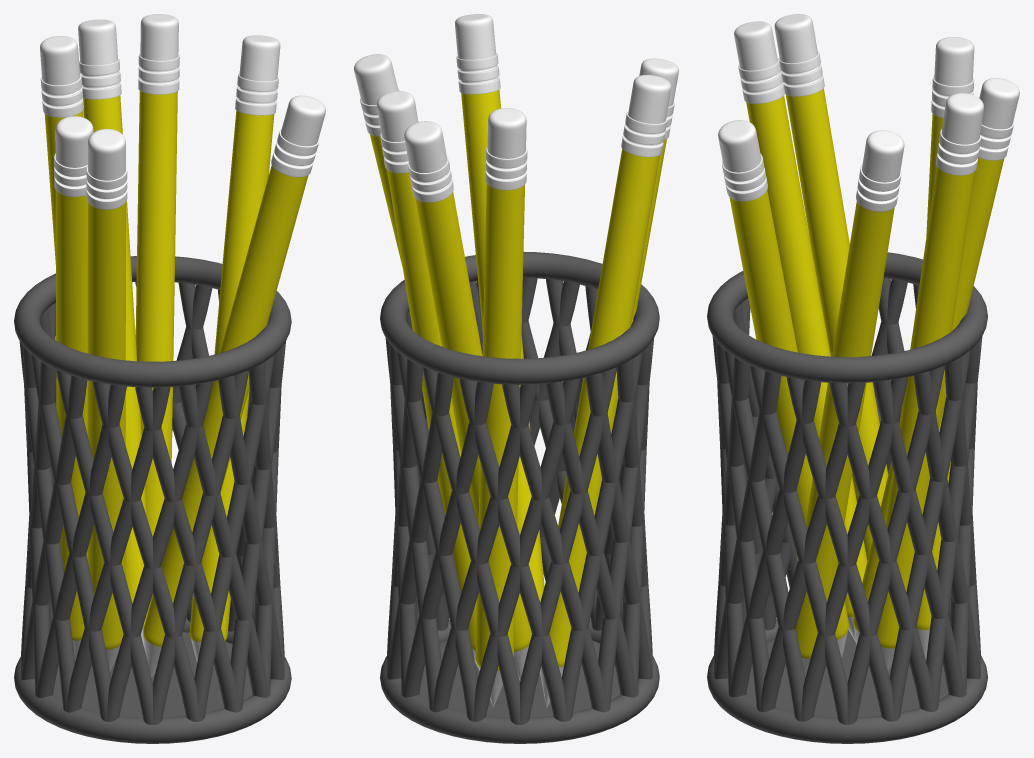
The model's file is pencil_cup_and_pencils.glb.
3 views of the same model, side by side, from view 1: azimuth 30°, elevation 25°; view 2: azimuth 150°, elevation 25°; view 3: azimuth 270°, elevation 25° (orthographic).
Parts seen in each view (by area): view 1: Pencil_Cup_Mesh, Pencil_Mesh_1.001, Pencil_Mesh_1.004, Pencil_Mesh_1.002, Pencil_Mesh_1.003, Pencil_Mesh_1.005, Pencil_Mesh_1.006, Pencil_Mesh_1; view 2: Pencil_Cup_Mesh, Pencil_Mesh_1.005, Pencil_Mesh_1, Pencil_Mesh_1.006, Pencil_Mesh_1.001, Pencil_Mesh_1.004, Pencil_Mesh_1.003, Pencil_Mesh_1.002; view 3: Pencil_Cup_Mesh, Pencil_Mesh_1.001, Pencil_Mesh_1.002, Pencil_Mesh_1.005, Pencil_Mesh_1.003, Pencil_Mesh_1.004, Pencil_Mesh_1.006, Pencil_Mesh_1.
Part boxes in pixels (left/top/right/bottom): Pencil_Cup_Mesh: left=14, top=256, right=291, bottom=743; Pencil_Mesh_1.001: left=135, top=14, right=179, bottom=596; Pencil_Mesh_1.004: left=143, top=95, right=325, bottom=677; Pencil_Mesh_1.002: left=86, top=129, right=127, bottom=671; Pencil_Mesh_1.003: left=189, top=35, right=280, bottom=667; Pencil_Mesh_1.005: left=54, top=116, right=93, bottom=661; Pencil_Mesh_1.006: left=78, top=19, right=151, bottom=648; Pencil_Mesh_1: left=40, top=36, right=83, bottom=264; Pencil_Cup_Mesh: left=380, top=252, right=659, bottom=743; Pencil_Mesh_1.005: left=539, top=75, right=671, bottom=707; Pencil_Mesh_1: left=475, top=108, right=527, bottom=707; Pencil_Mesh_1.006: left=404, top=121, right=531, bottom=680; Pencil_Mesh_1.001: left=377, top=91, right=478, bottom=667; Pencil_Mesh_1.004: left=455, top=14, right=544, bottom=601; Pencil_Mesh_1.003: left=354, top=54, right=402, bottom=268; Pencil_Mesh_1.002: left=631, top=58, right=678, bottom=324; Pencil_Cup_Mesh: left=707, top=252, right=987, bottom=743; Pencil_Mesh_1.001: left=877, top=93, right=983, bottom=671; Pencil_Mesh_1.002: left=734, top=21, right=867, bottom=641; Pencil_Mesh_1.005: left=774, top=14, right=888, bottom=560; Pencil_Mesh_1.003: left=796, top=130, right=904, bottom=676; Pencil_Mesh_1.004: left=718, top=120, right=848, bottom=658; Pencil_Mesh_1.006: left=853, top=78, right=1019, bottom=644; Pencil_Mesh_1: left=916, top=37, right=974, bottom=660.
Size of the model in its own units: 2.43 by 5.43 by 2.46.
